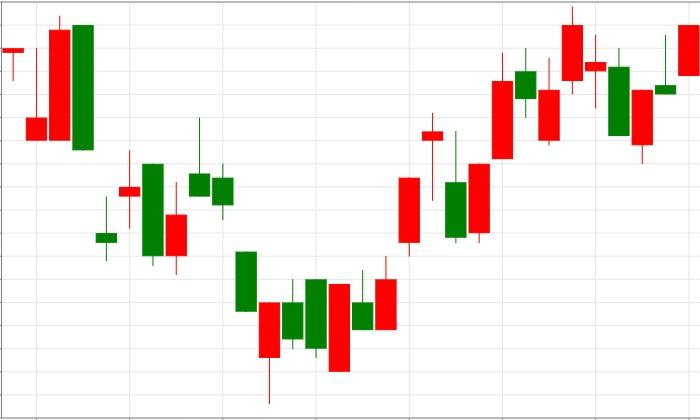shooting_star_fall: (141, 117, 211, 275)
